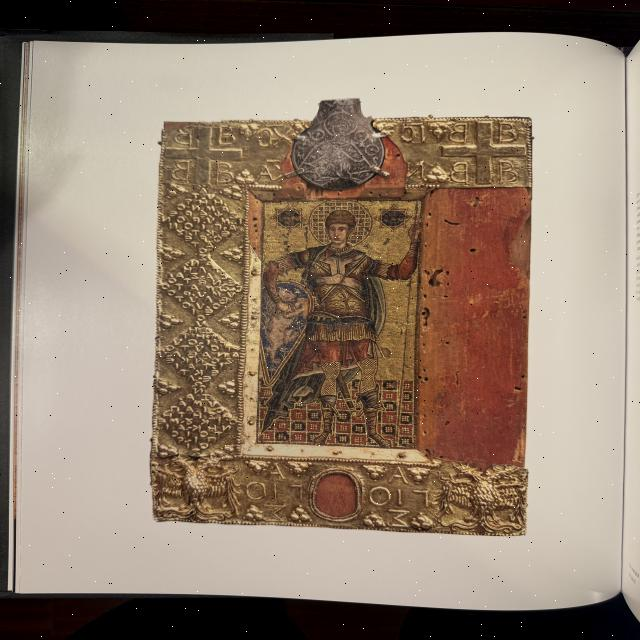aura: (307, 200, 377, 250)
shield: (256, 280, 314, 388)
spear: (391, 203, 423, 448)
st_george: (249, 200, 427, 447)
